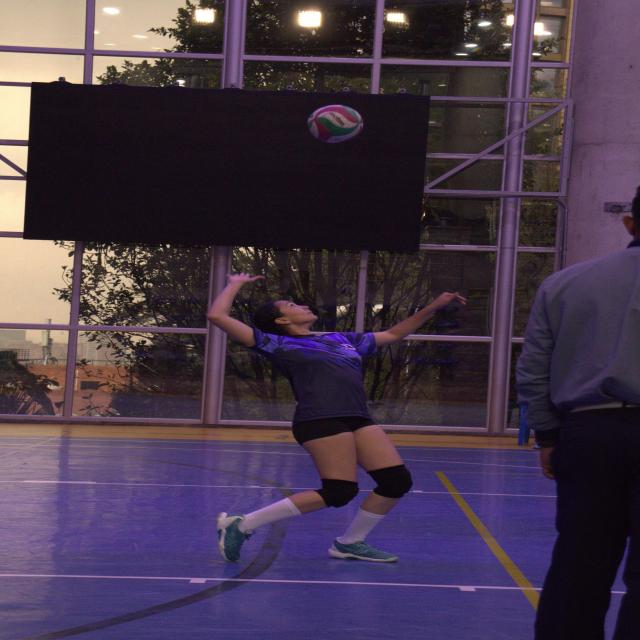volleyball: (307, 105, 367, 142)
